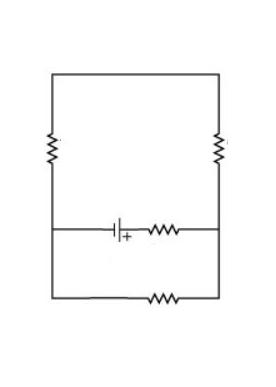resistor: (202, 118, 242, 181), (33, 118, 70, 183), (138, 208, 196, 249), (134, 280, 192, 315)
